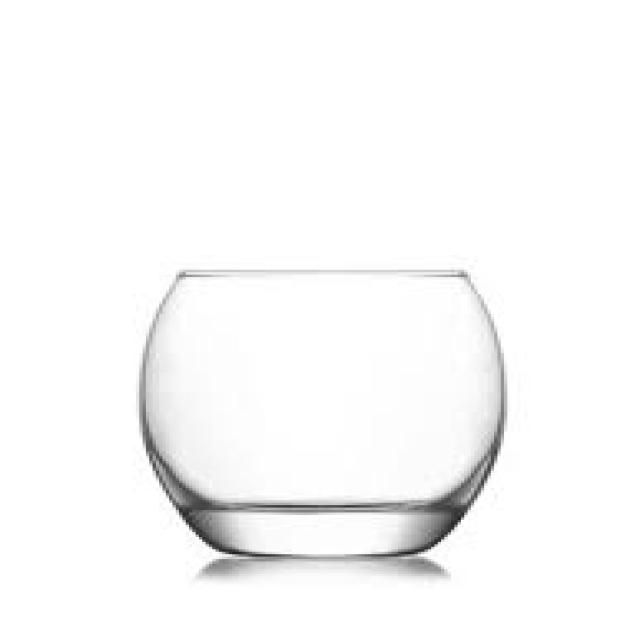Dry: (135, 264, 512, 564)
